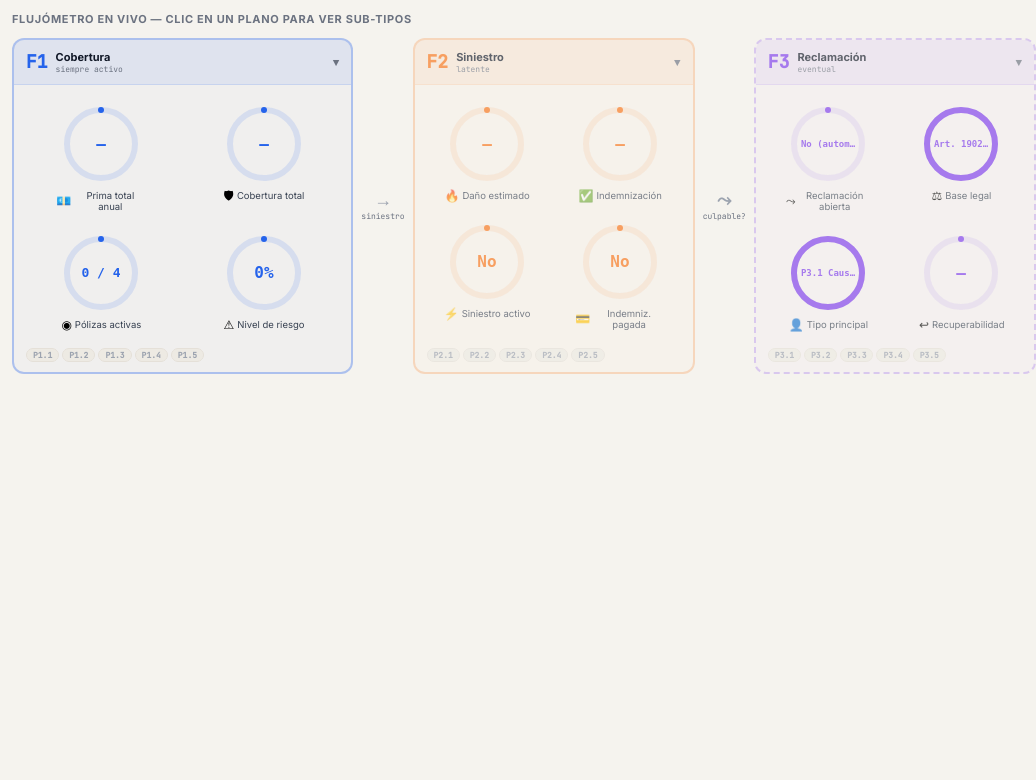
PhenomenonIIIFlowGraph — phase expand/collapse › collapses sub-type detail panel on second click of same card
Click the text "Cobertura" at point(83, 57), box x1=56 y1=50 x2=110 y2=64
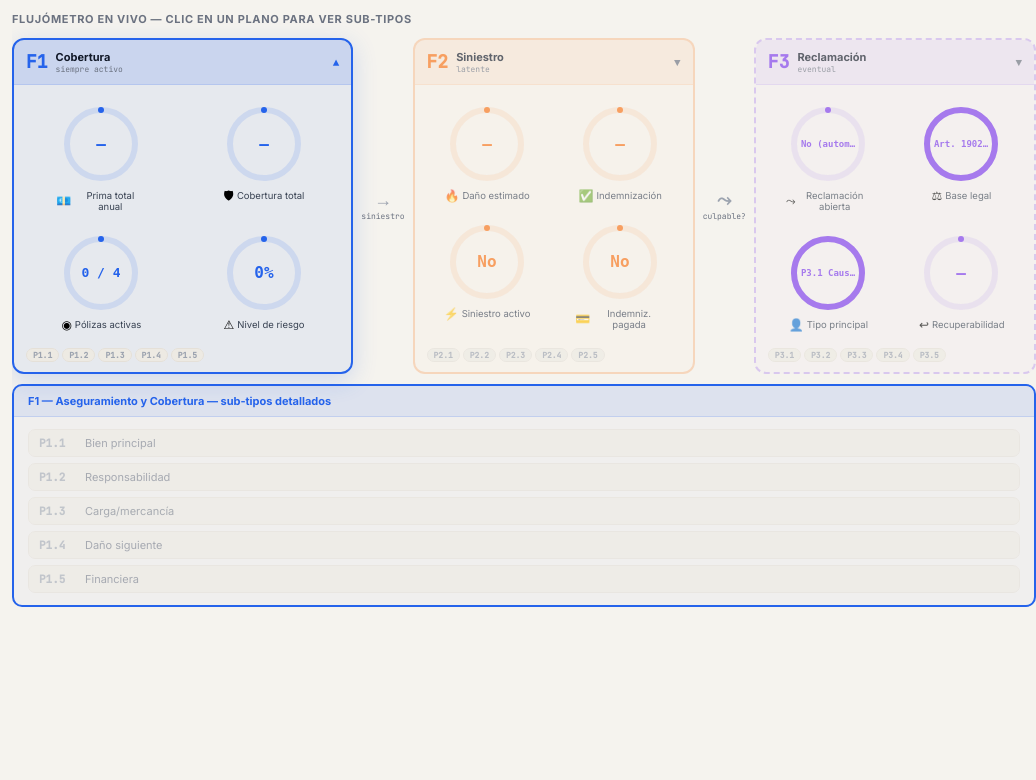
Check: the text "F1 — Aseguramiento y Cobertura — sub-tipos detallados" is shown, box x1=14 y1=386 x2=1034 y2=417
Click the text "Cobertura" at point(83, 57), box x1=56 y1=50 x2=110 y2=64
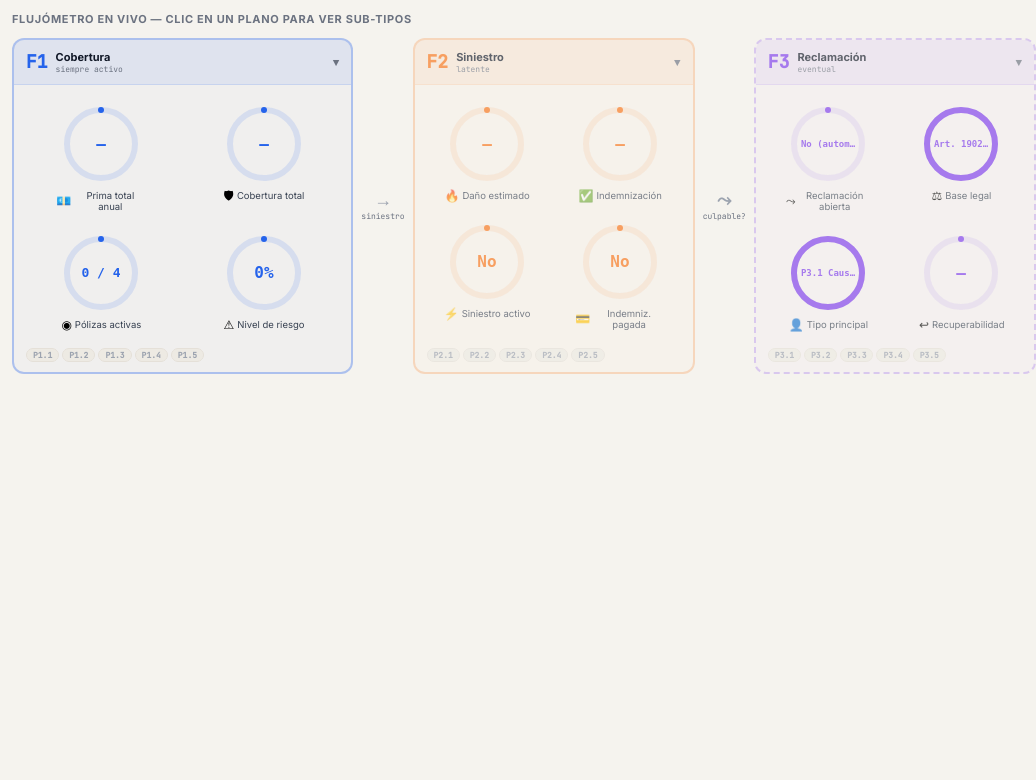
Check: the text "sub-tipos detallados" is gone
